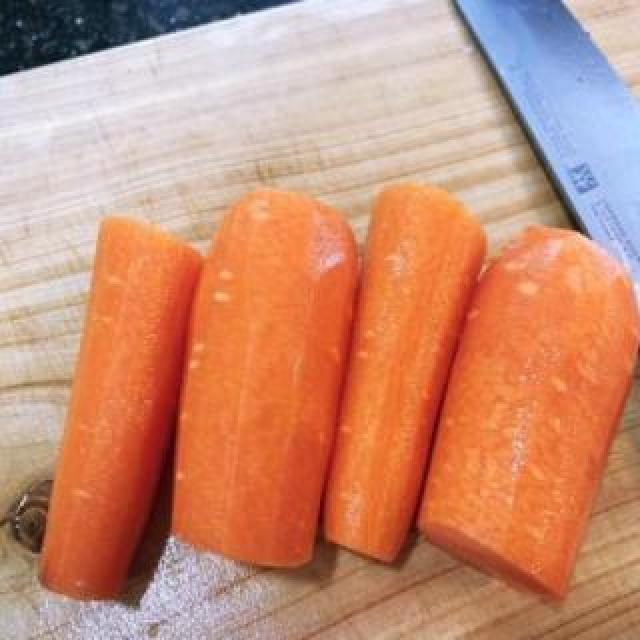carrot: (413, 219, 640, 604), (173, 187, 361, 575), (321, 177, 492, 574), (39, 209, 202, 614)
